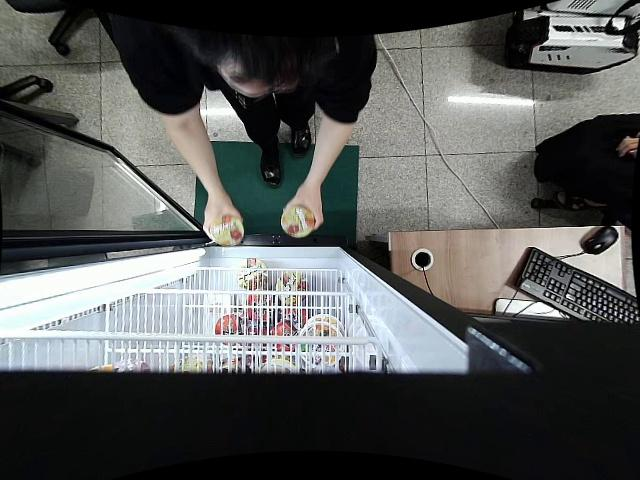00_hand: (283, 180, 325, 233), (203, 196, 245, 243)
04_chapagetti_S: (208, 213, 245, 247), (281, 205, 315, 237)
